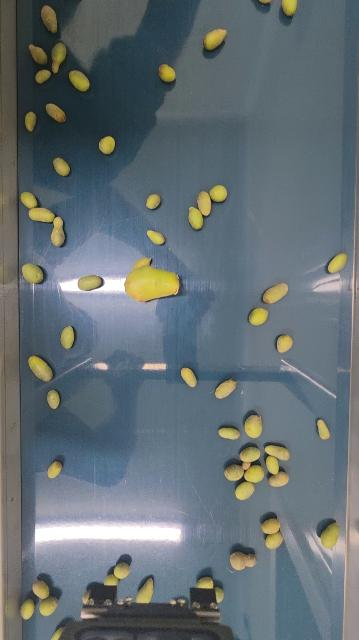Baby Potato: (122, 264, 182, 305), (27, 354, 53, 383), (202, 26, 229, 52), (263, 281, 290, 305), (320, 521, 342, 550), (49, 42, 68, 73), (229, 551, 258, 571), (40, 4, 59, 34), (214, 378, 239, 400), (243, 413, 264, 439), (136, 577, 155, 605), (242, 461, 265, 484), (68, 69, 90, 93), (50, 216, 66, 248), (328, 251, 349, 275), (265, 442, 291, 461), (22, 262, 44, 284), (28, 42, 48, 66), (78, 273, 104, 291), (45, 102, 67, 123), (224, 462, 247, 482), (196, 189, 213, 216), (187, 206, 205, 231), (238, 445, 263, 463), (27, 206, 55, 222), (235, 480, 256, 501), (59, 324, 76, 349), (248, 306, 269, 326), (39, 596, 59, 617), (157, 62, 176, 83), (268, 470, 291, 487), (264, 531, 284, 550), (261, 517, 282, 535), (218, 425, 241, 441), (209, 184, 228, 203), (32, 580, 51, 599), (98, 135, 116, 155), (53, 157, 71, 177), (276, 333, 294, 353), (265, 454, 282, 475), (19, 598, 35, 620), (181, 367, 197, 388), (23, 111, 38, 133), (20, 190, 37, 209), (146, 229, 165, 246), (317, 418, 331, 441), (46, 459, 62, 479), (46, 389, 61, 410), (281, 0, 299, 17), (114, 562, 130, 579), (133, 255, 152, 269), (146, 193, 161, 210), (34, 69, 51, 84), (196, 576, 214, 589), (50, 626, 64, 640), (214, 585, 224, 603), (105, 574, 119, 585), (81, 591, 91, 605), (252, 0, 277, 4)
